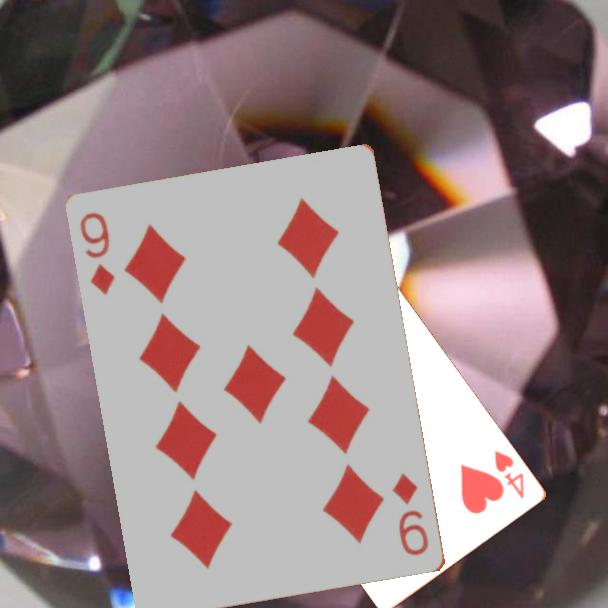d09: (389, 470, 432, 559), (77, 209, 118, 298)
h04: (491, 447, 528, 502)
